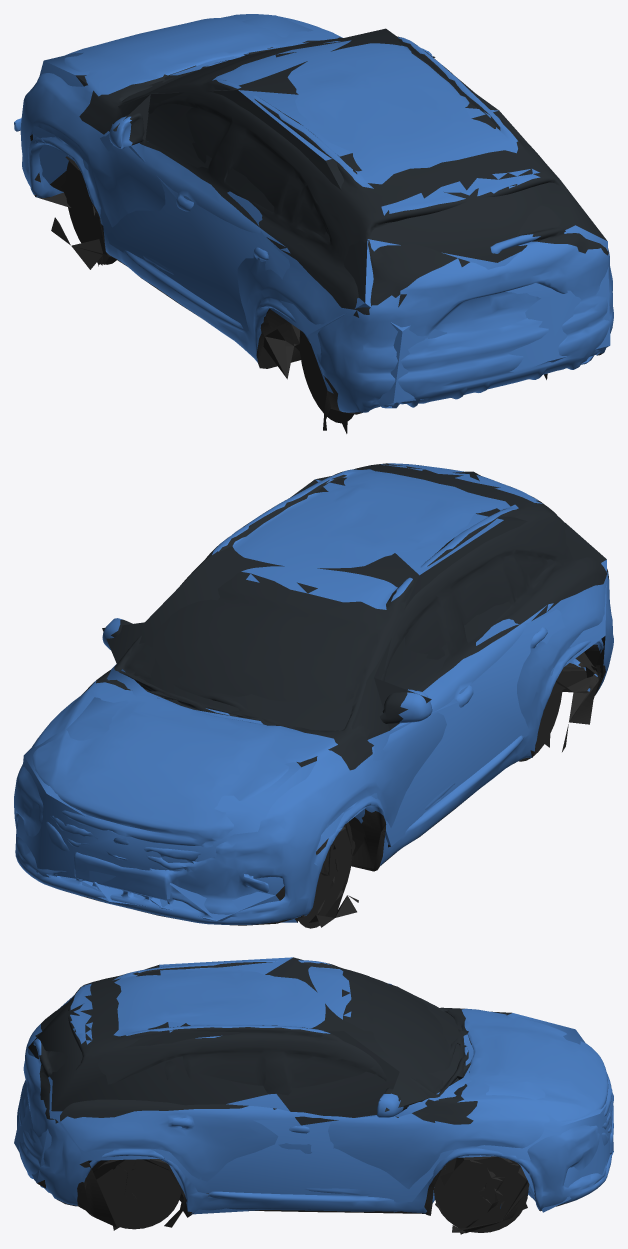
Rendered from hyundai-nexo.glb.
3 views of the same model, one above another, from view 1: azimuth 30°, elevation 25°; view 2: azimuth 150°, elevation 25°; view 3: azimuth 270°, elevation 25° (orthographic). The views are drawn at different scales.
Visible parts, largest first — view 1: body, far; view 2: body, far; view 3: body, far.
Part boxes in pixels (bbox=[...]): body: bbox=[14, 14, 613, 426]; far: bbox=[30, 15, 610, 433]; body: bbox=[14, 463, 613, 928]; far: bbox=[15, 471, 606, 927]; body: bbox=[17, 960, 613, 1233]; far: bbox=[14, 957, 613, 1234].
Size of the model in its own units: 2.33 by 1.75 by 4.76.
